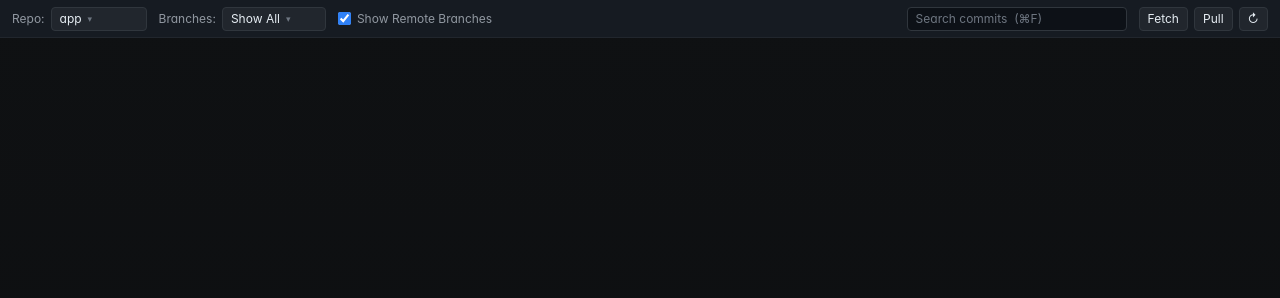
Test: the branch picker › lists local and remote branches, but not tags
This screenshot has width=1280, height=298.
What coordinates should you click on to do the following:
click the button titled "Show only selected branches"
I would click on:
 (274, 18)
Its box is [222,6,326,30].
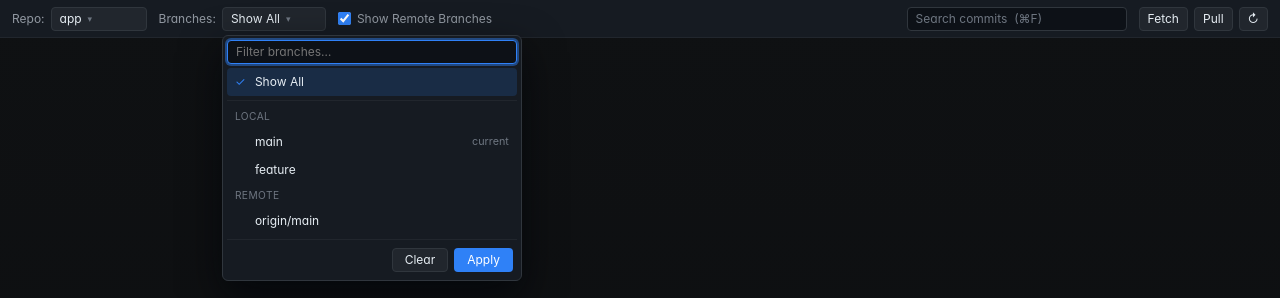
Result: the menu item "main current" is shown at [227,128,517,156]
Result: the menu item "origin/main" is shown at [227,207,517,235]
